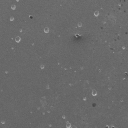corrosion: (90, 89, 99, 97), (14, 35, 22, 43), (43, 26, 50, 34), (73, 32, 81, 39), (10, 4, 17, 11), (76, 21, 83, 28), (9, 15, 15, 23), (93, 10, 99, 17), (39, 63, 45, 70), (65, 122, 72, 128), (82, 96, 88, 102), (121, 44, 126, 51), (27, 15, 34, 20)
